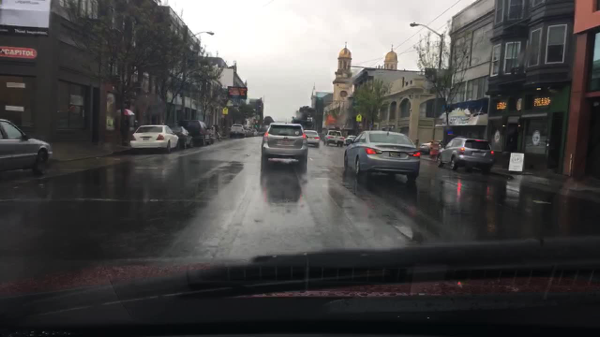car: (344, 130, 420, 179), (0, 118, 53, 175), (260, 118, 308, 167), (436, 135, 494, 174), (126, 122, 180, 151), (180, 119, 213, 146), (172, 126, 194, 150), (419, 139, 444, 154), (325, 130, 344, 146), (304, 131, 319, 146), (230, 123, 244, 138), (344, 135, 357, 146), (246, 128, 255, 135), (251, 130, 260, 135)
person: (114, 109, 133, 147)
traffic sign: (222, 107, 228, 115), (355, 115, 362, 121)
